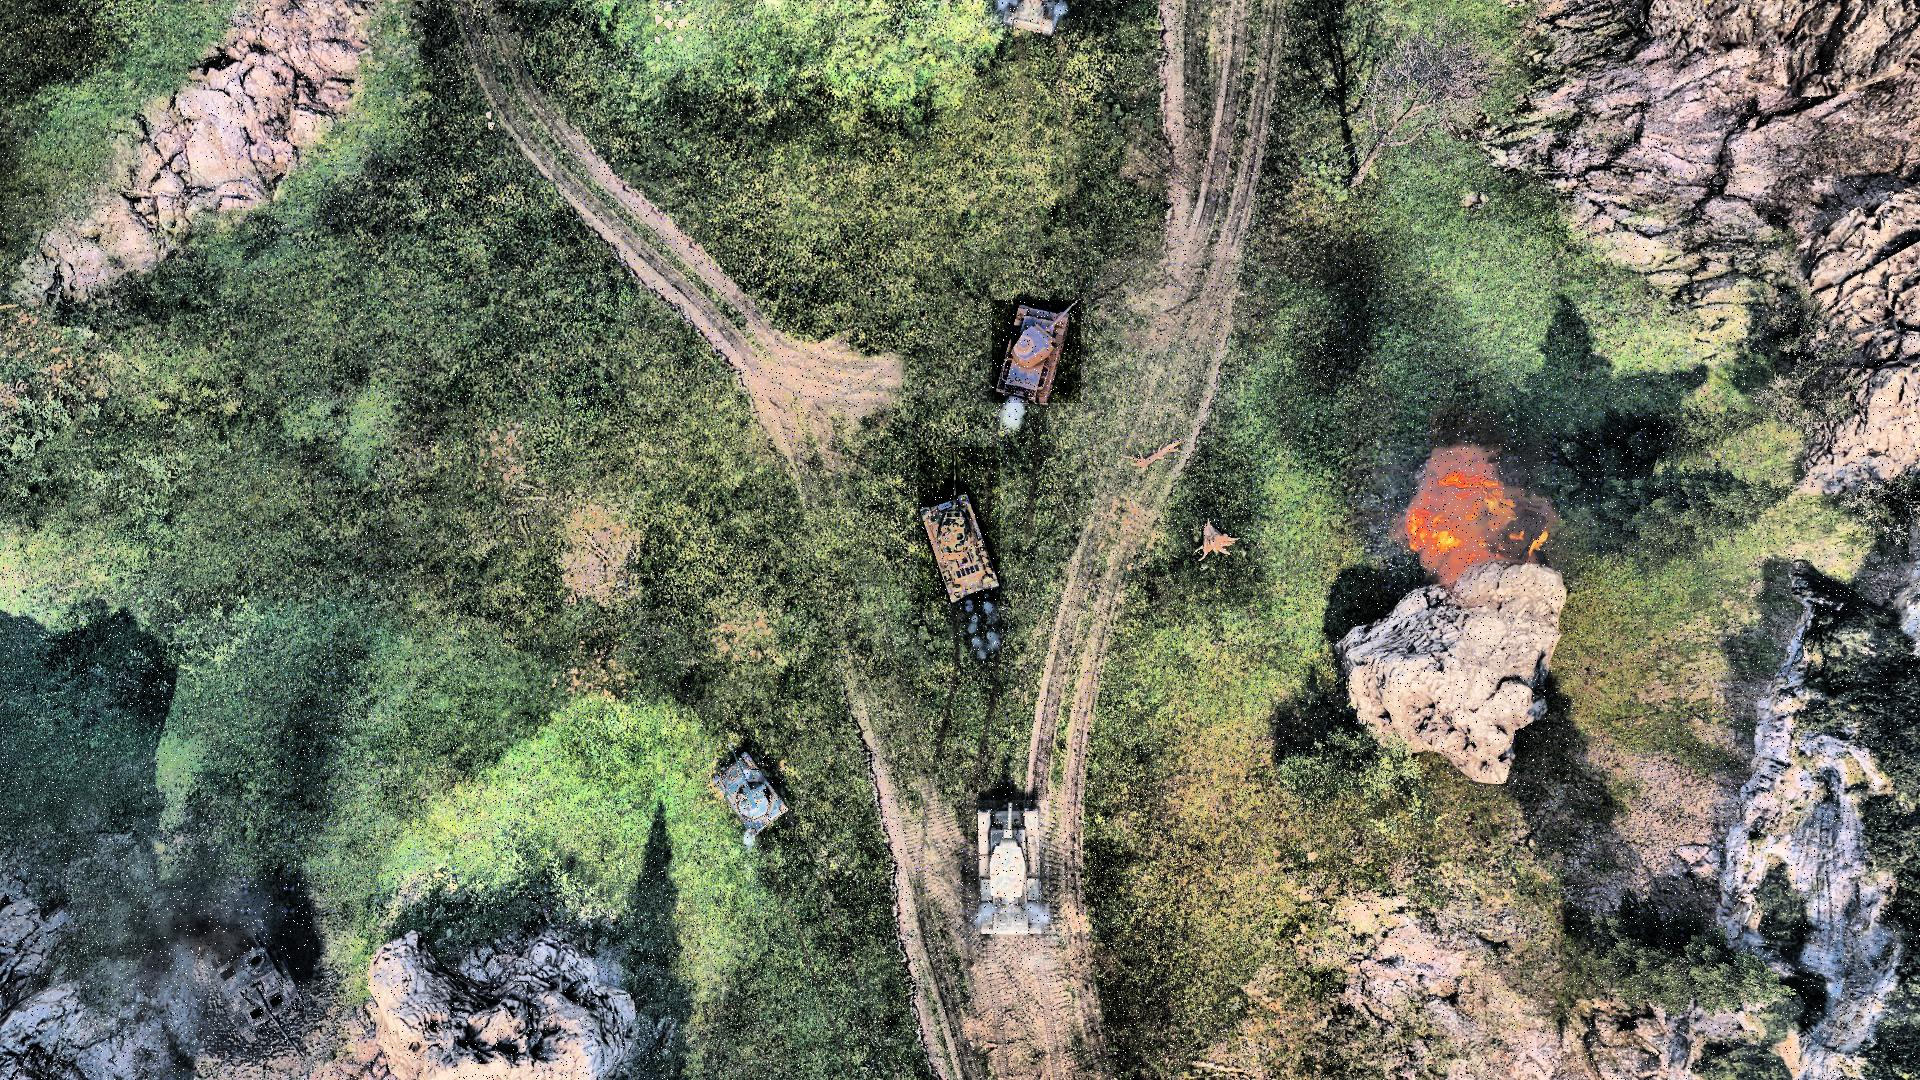military-vehicle: (918, 447, 1001, 601), (978, 800, 1050, 934), (993, 301, 1081, 404), (712, 741, 790, 840)
